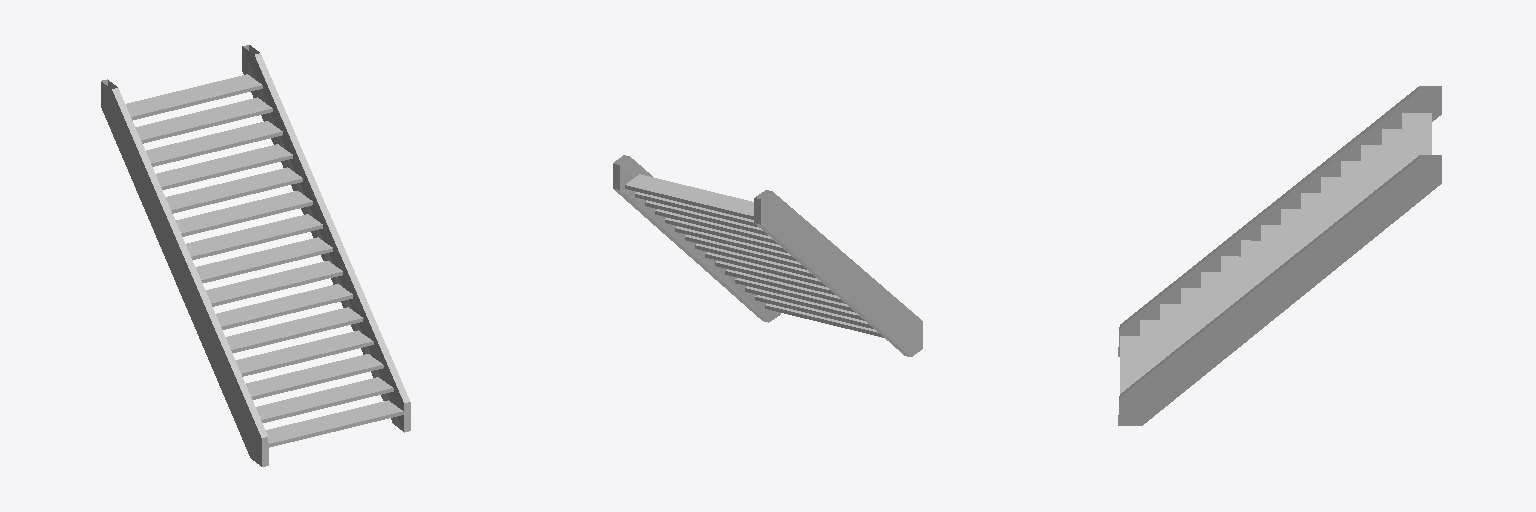
File: stairsDown.obj
The picture shows the model from 3 angles: view 1: azimuth 30°, elevation 25°; view 2: azimuth 150°, elevation 25°; view 3: azimuth 270°, elevation 25°; orthographic projection.
Size of the model in its own units: 2.3 by 3.96 by 4.34.